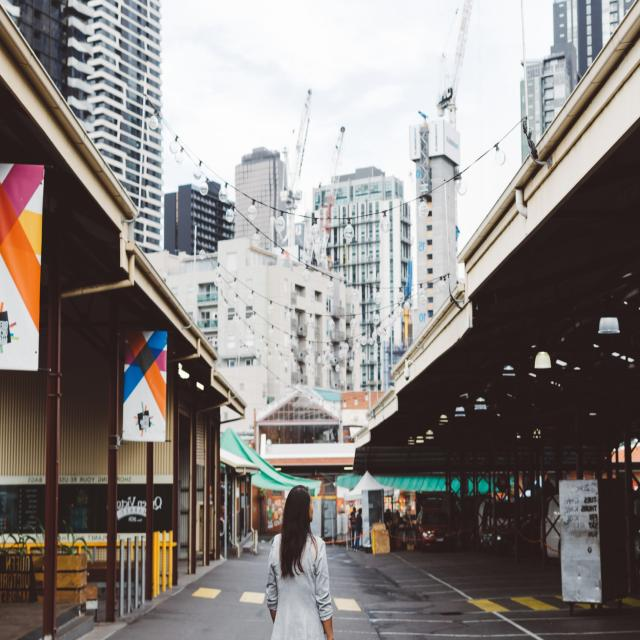adult: (265, 487, 338, 640)
